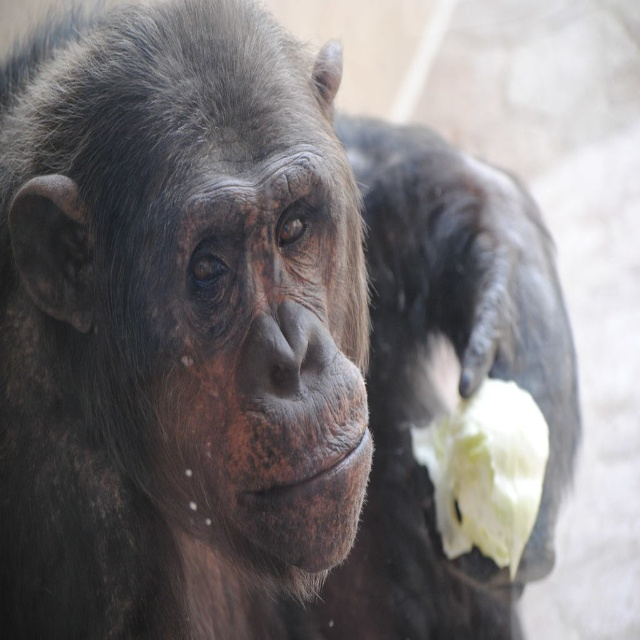Monkey: (0, 0, 581, 639)
